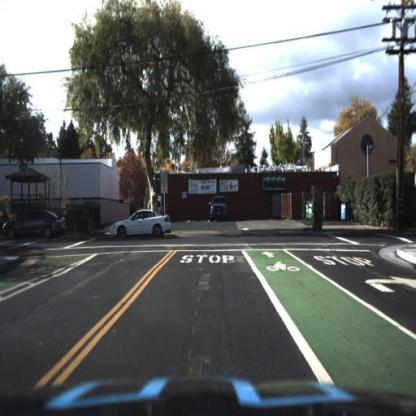car: (0, 203, 72, 249), (106, 203, 175, 248), (206, 192, 230, 222), (144, 197, 166, 215)
